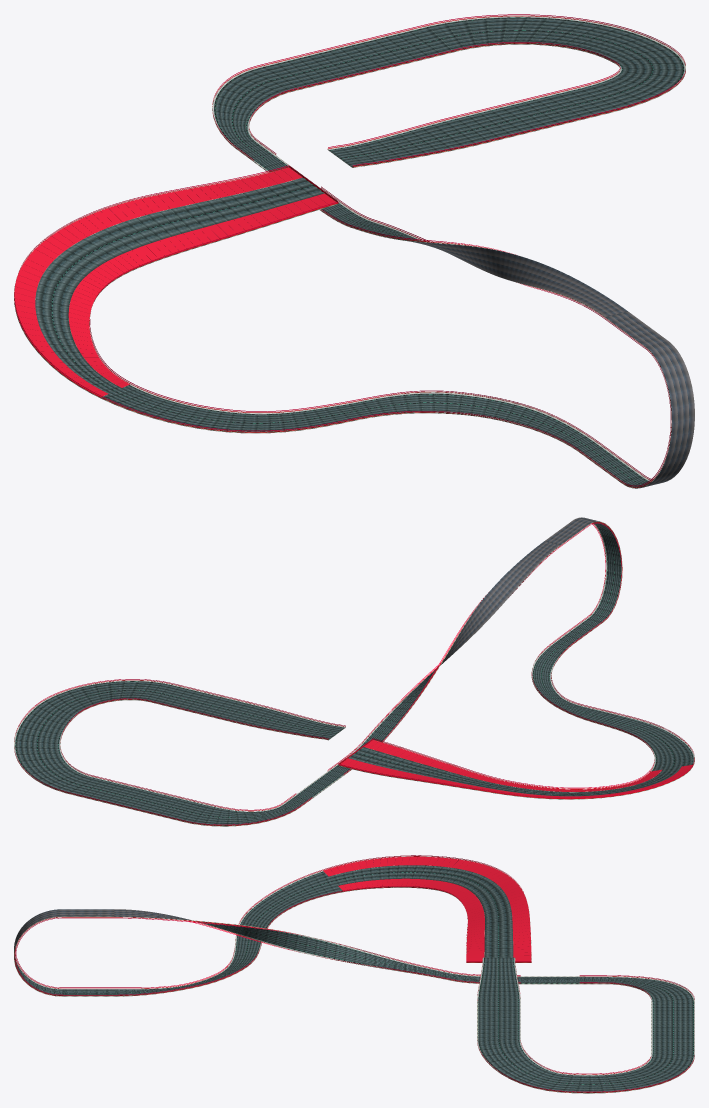
Rendered from TwistRoad.obj.
The picture shows the model from 3 angles, top to bottom: view 1: azimuth 30°, elevation 25°; view 2: azimuth 150°, elevation 25°; view 3: azimuth 270°, elevation 25°; orthographic projection. The views are drawn at different scales.
Size of the model in its own units: 3827 by 648 by 4454.
